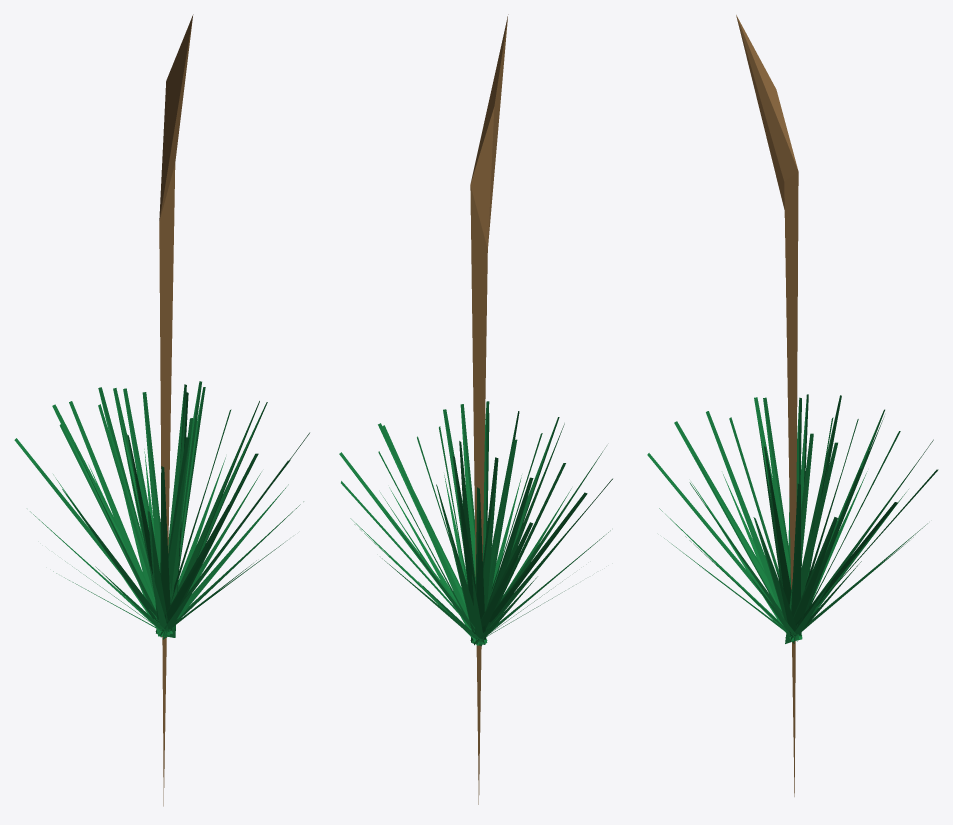
The model's file is DesertSpoon_LOD1.fbx.
The picture shows the model from 3 angles, left to right: view 1: azimuth 30°, elevation 25°; view 2: azimuth 150°, elevation 25°; view 3: azimuth 270°, elevation 25°; orthographic projection. The views are drawn at different scales.
Parts seen in each view (by area): view 1: DesertSpoon_LOD1; view 2: DesertSpoon_LOD1; view 3: DesertSpoon_LOD1.
Part boxes in pixels (x1,y1,x2,y2): DesertSpoon_LOD1: (14,14,309,806); DesertSpoon_LOD1: (339,14,612,804); DesertSpoon_LOD1: (647,15,938,796).
Size of the model in its own units: 92.22 by 278 by 92.14.
